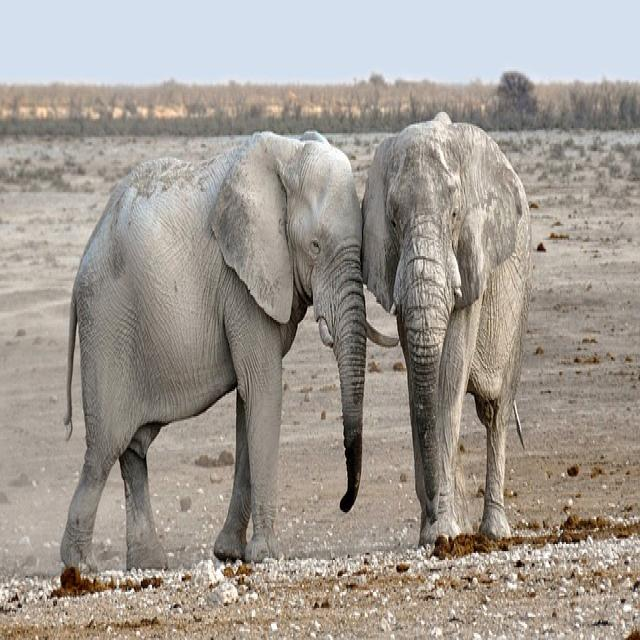elephant: (61, 133, 380, 568), (362, 113, 531, 543)
